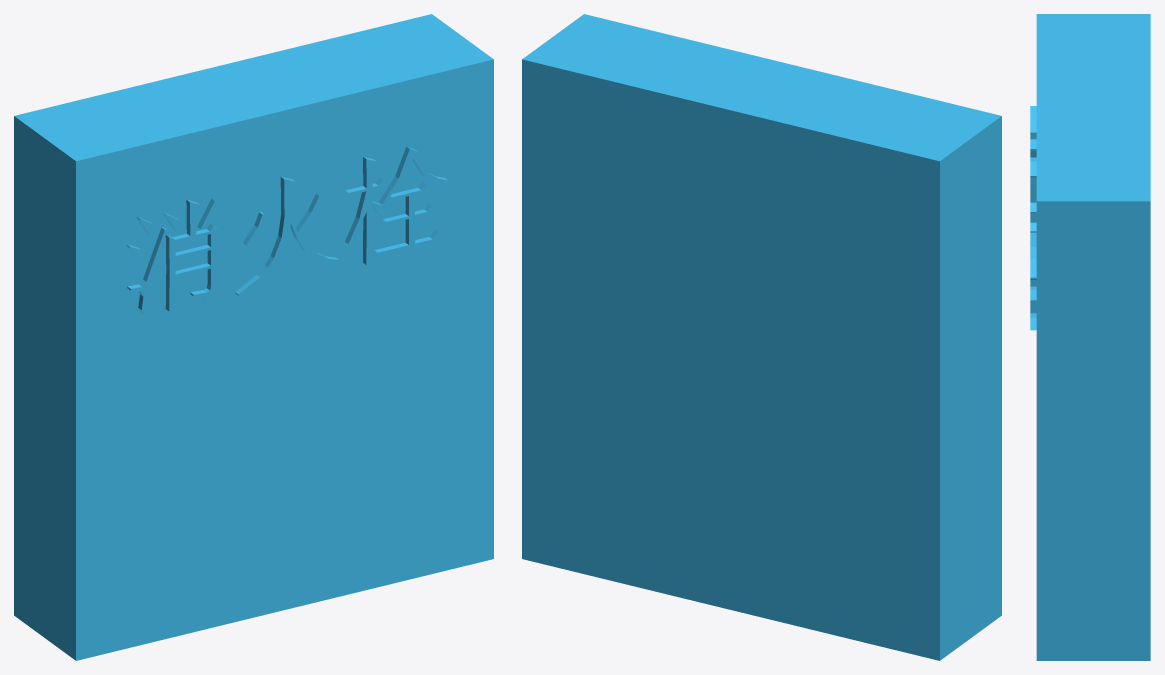
The model's file is XiaoHuoShuanXiang1.gltf.
The picture shows the model from 3 angles, left to right: view 1: azimuth 30°, elevation 25°; view 2: azimuth 150°, elevation 25°; view 3: azimuth 270°, elevation 25°; orthographic projection. The views are drawn at different scales.
Bounding box in the file's own units: 1400 × 1600 × 380.
